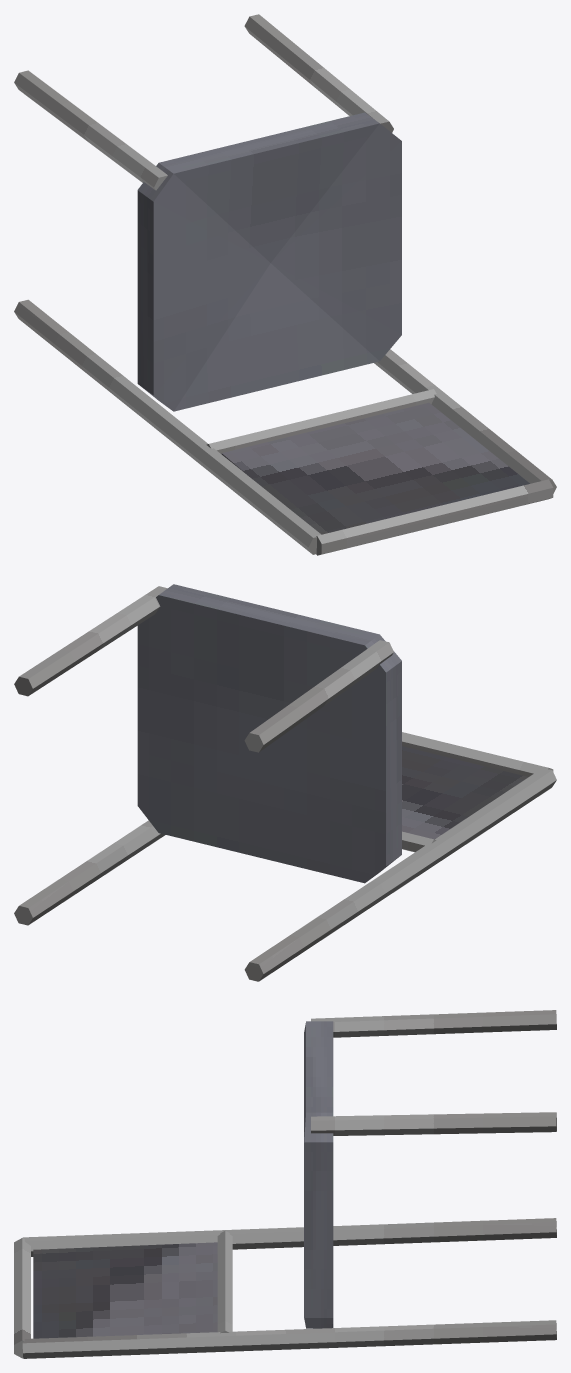
File: pz_chair_seating_indoor_01_grey_fidelity_r1.obj
The picture shows the model from 3 angles, top to bottom: view 1: azimuth 30°, elevation 25°; view 2: azimuth 150°, elevation 25°; view 3: azimuth 270°, elevation 25°; orthographic projection. The views are drawn at different scales.
Visible parts, largest first — view 1: seat, frame, back; view 2: seat, frame, back; view 3: frame, back, seat.
Part boxes in pixels (x1,y1,x2,y2): seat: (137,112,401,411); frame: (14,14,556,555); back: (221,402,529,534); seat: (137,584,401,883); frame: (14,586,556,981); back: (402,746,528,839); frame: (14,1010,556,1358); back: (33,1242,217,1338); seat: (304,1021,333,1328).
Bounding box in the file's own units: 0.453 × 0.466 × 0.9399.
1 material, 1 textured.
